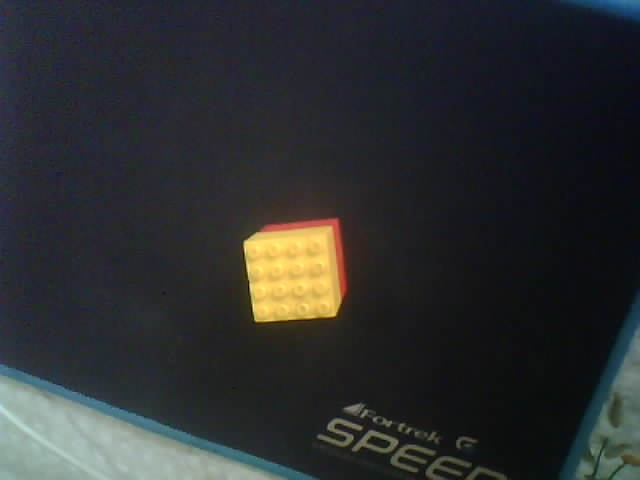lego: (241, 217, 347, 324)
